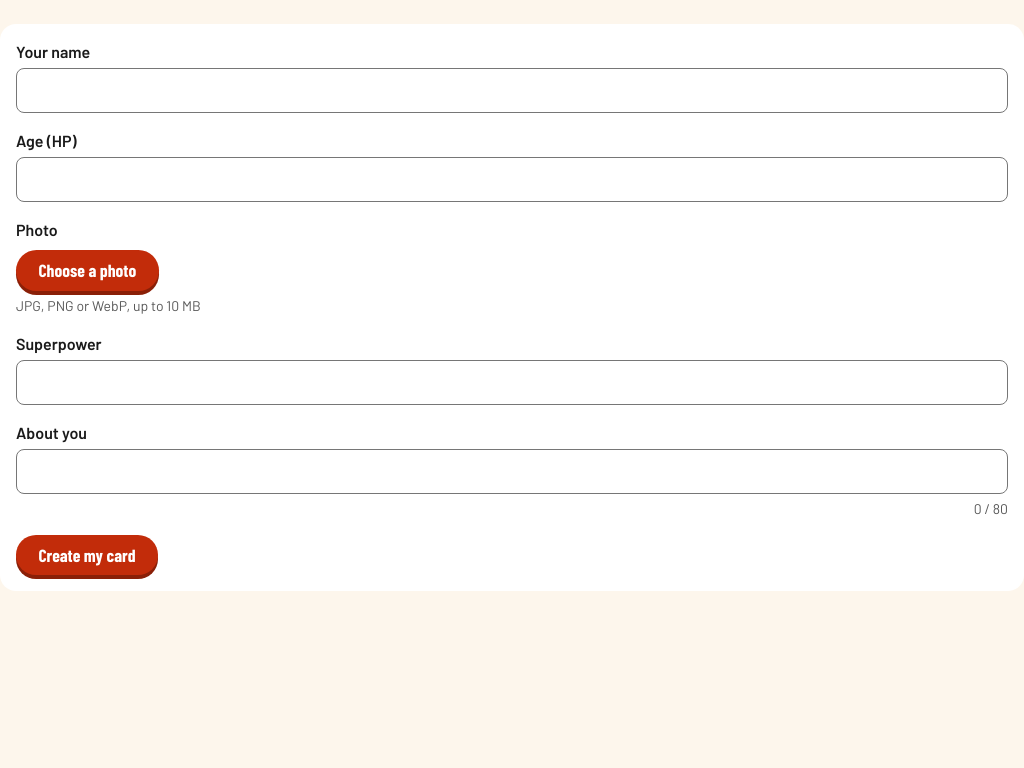
Test case: CardForm › on submit with an empty form: shows all 5 errors and focuses Your name, connected to its error
Step 1. Click the button "Create my card" → (87, 555), box [16,535,158,575]
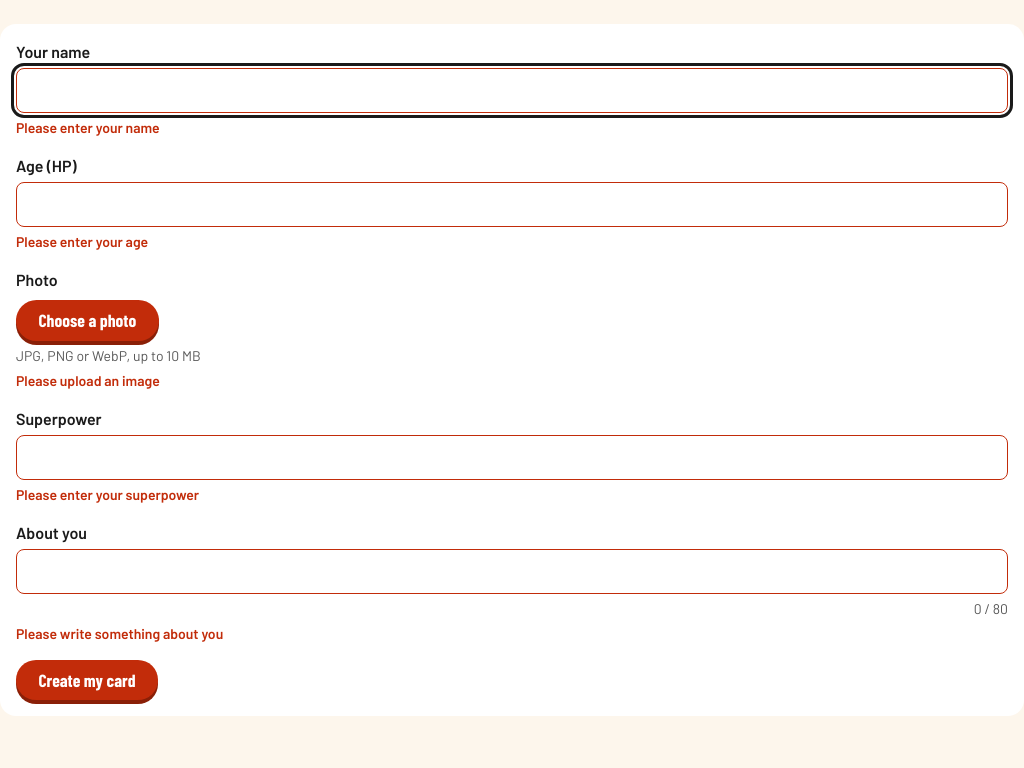
Check: the text "Please enter your name" is shown, box [16,119,160,136]
Check: the text "Please enter your age" is shown, box [16,233,148,250]
Check: the text "Please upload an image" is shown, box [16,372,160,389]
